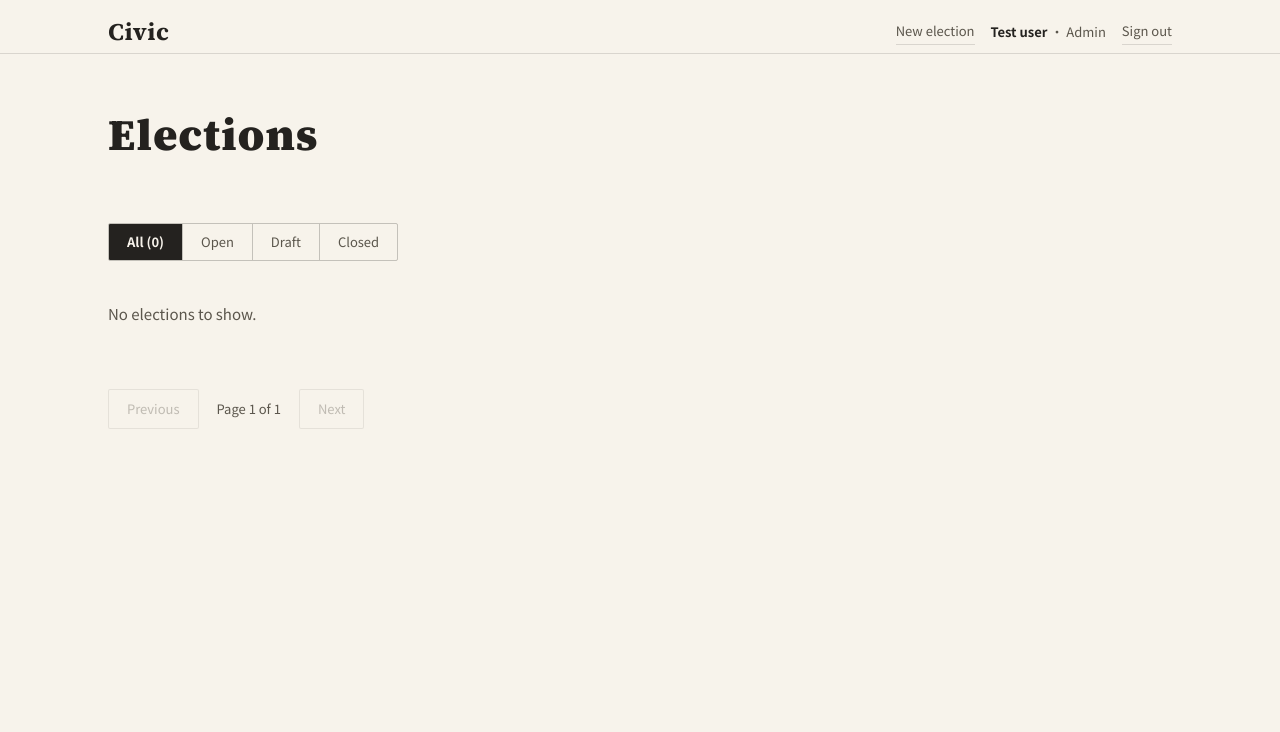
elections home › shows the administrator create entry and navigates to the existing route
The width and height of the screenshot is (1280, 732).
Expected: the heading "Elections" is shown, [108, 104, 318, 165]
What coordinates should you click on to do the following:
click the link "New election"
I would click on:
 (935, 32)
Its box is [896, 20, 974, 45].
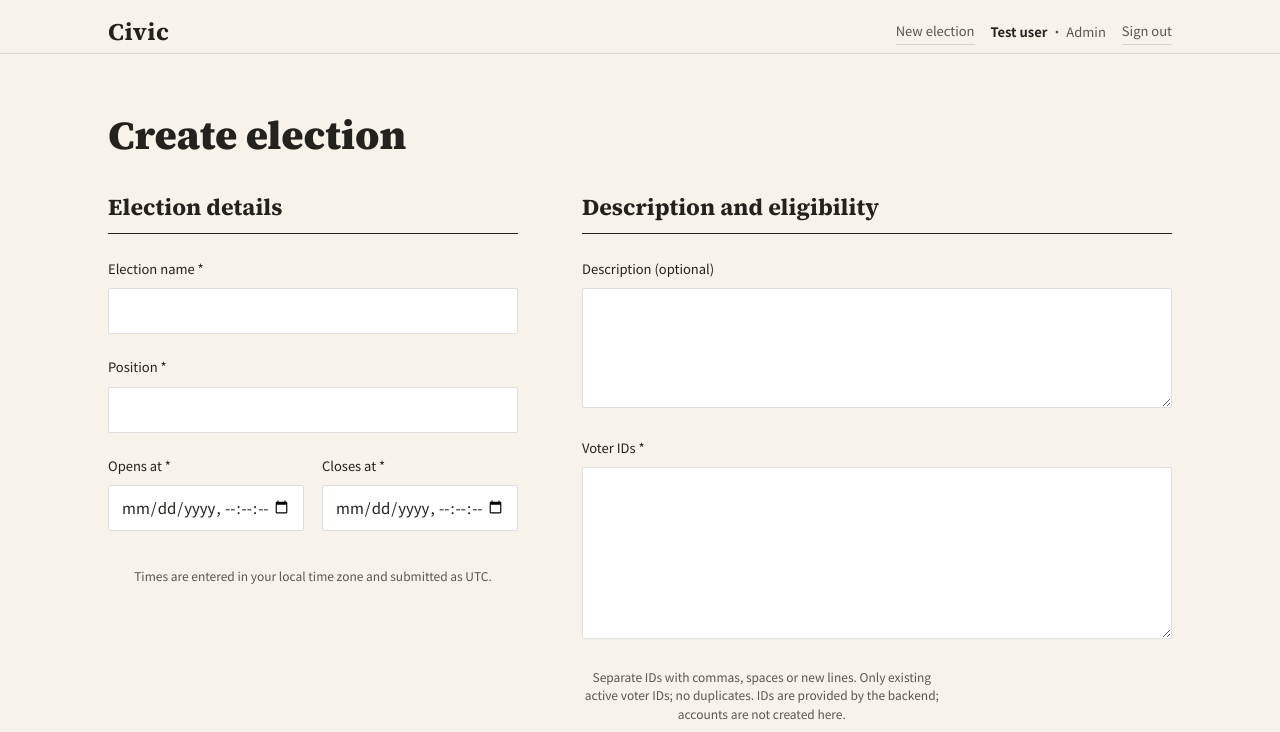
Expected: the heading "Create election" is shown, [108, 108, 406, 162]
